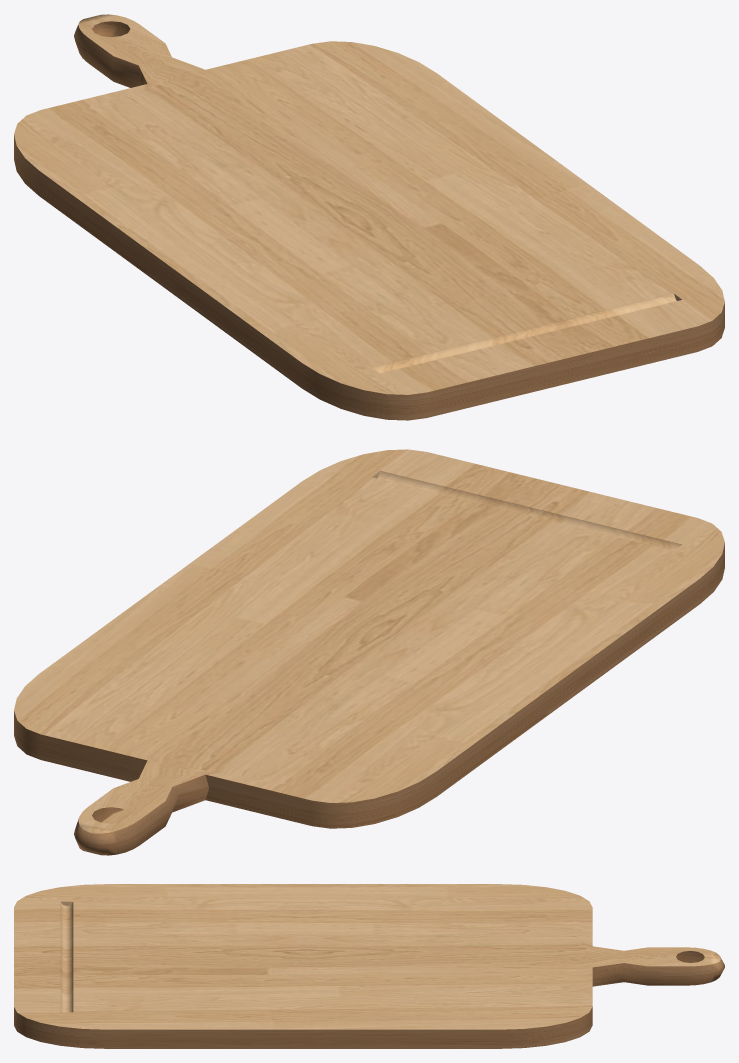
The model's file is CuttingBoard.fbx.
3 views of the same model, one above another, from view 1: azimuth 30°, elevation 25°; view 2: azimuth 150°, elevation 25°; view 3: azimuth 270°, elevation 25° (orthographic). The views are drawn at different scales.
Visible parts, largest first — view 1: CuttingBoard; view 2: CuttingBoard; view 3: CuttingBoard.
Boxes of the visible parts, x1=… form: CuttingBoard: x1=14, y1=14, x2=724, y2=420; CuttingBoard: x1=14, y1=449, x2=724, y2=855; CuttingBoard: x1=14, y1=884, x2=724, y2=1048.
Size of the model in its own units: 119 by 7.32 by 246.
